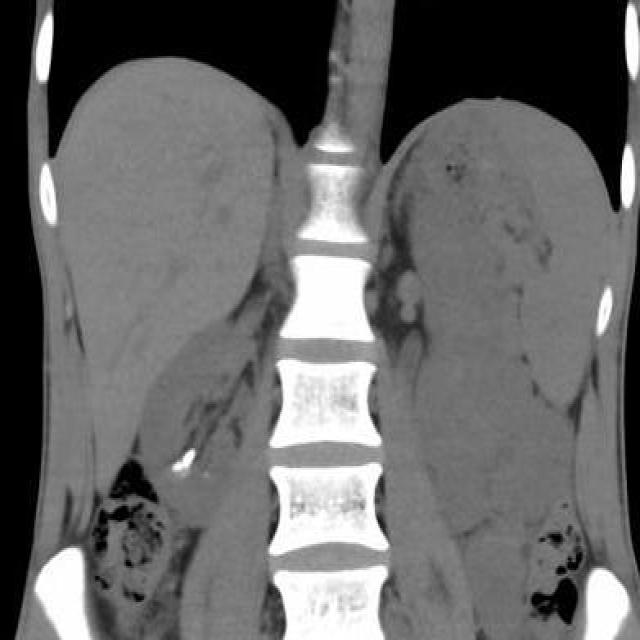Tas_Var: (182, 444, 196, 470), (171, 458, 186, 474), (202, 466, 210, 482)
